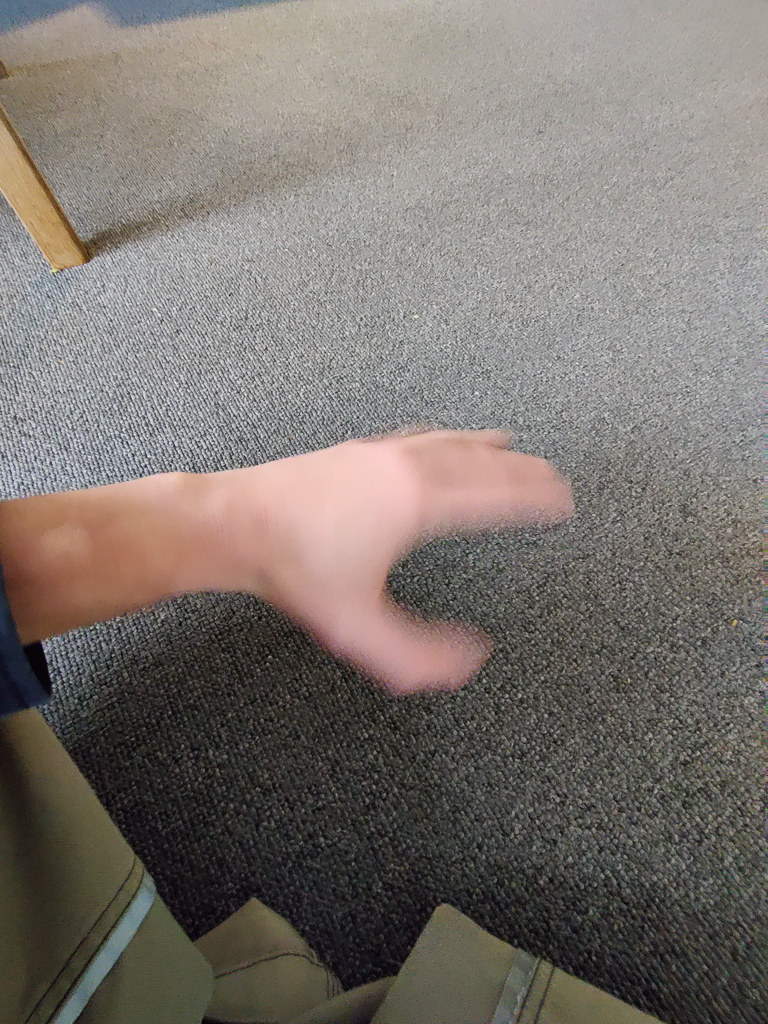Humanoid: (0, 401, 698, 1024)
